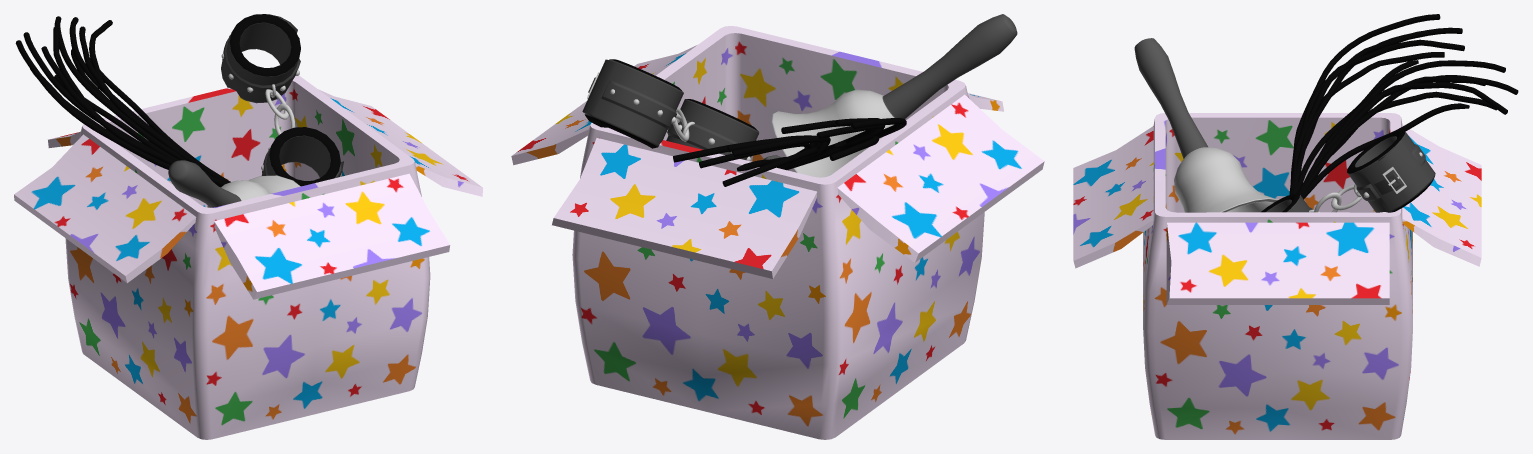
The model's file is Box_Open_Fantasy (1).fbx.
3 views of the same model, side by side, from view 1: azimuth 30°, elevation 25°; view 2: azimuth 150°, elevation 25°; view 3: azimuth 270°, elevation 25° (orthographic). The views are drawn at different scales.
Parts seen in each view (by area): view 1: Box, polySurface3, polySurface4, Fantesy_HnadCuff, polySurface9, polySurface1, pCylinder4; view 2: Box, polySurface5, polySurface4, Fantesy_HnadCuff, pCylinder4, polySurface9, polySurface1; view 3: Box, polySurface1, polySurface9, polySurface3, pCylinder4, polySurface5, Fantesy_HnadCuff.
Part boxes in pixels (x1,y1,x2,y2): Box: [65, 75, 430, 439]; polySurface3: [214, 173, 450, 299]; polySurface4: [14, 134, 196, 283]; Fantesy_HnadCuff: [221, 14, 343, 186]; polySurface9: [15, 16, 230, 187]; polySurface1: [318, 89, 482, 196]; pCylinder4: [168, 160, 300, 207]; Box: [572, 26, 984, 439]; polySurface5: [552, 138, 817, 278]; polySurface4: [837, 94, 1044, 262]; Fantesy_HnadCuff: [582, 59, 759, 160]; pCylinder4: [771, 14, 1017, 177]; polySurface9: [673, 118, 906, 186]; polySurface1: [511, 45, 696, 165]; Box: [1143, 113, 1412, 439]; polySurface1: [1166, 222, 1389, 304]; polySurface9: [1289, 14, 1518, 199]; polySurface3: [1073, 126, 1153, 268]; pCylinder4: [1134, 38, 1278, 212]; polySurface5: [1402, 124, 1481, 266]; Fantesy_HnadCuff: [1261, 130, 1435, 212].
Size of the model in its own units: 8.09 by 6.59 by 8.8.
